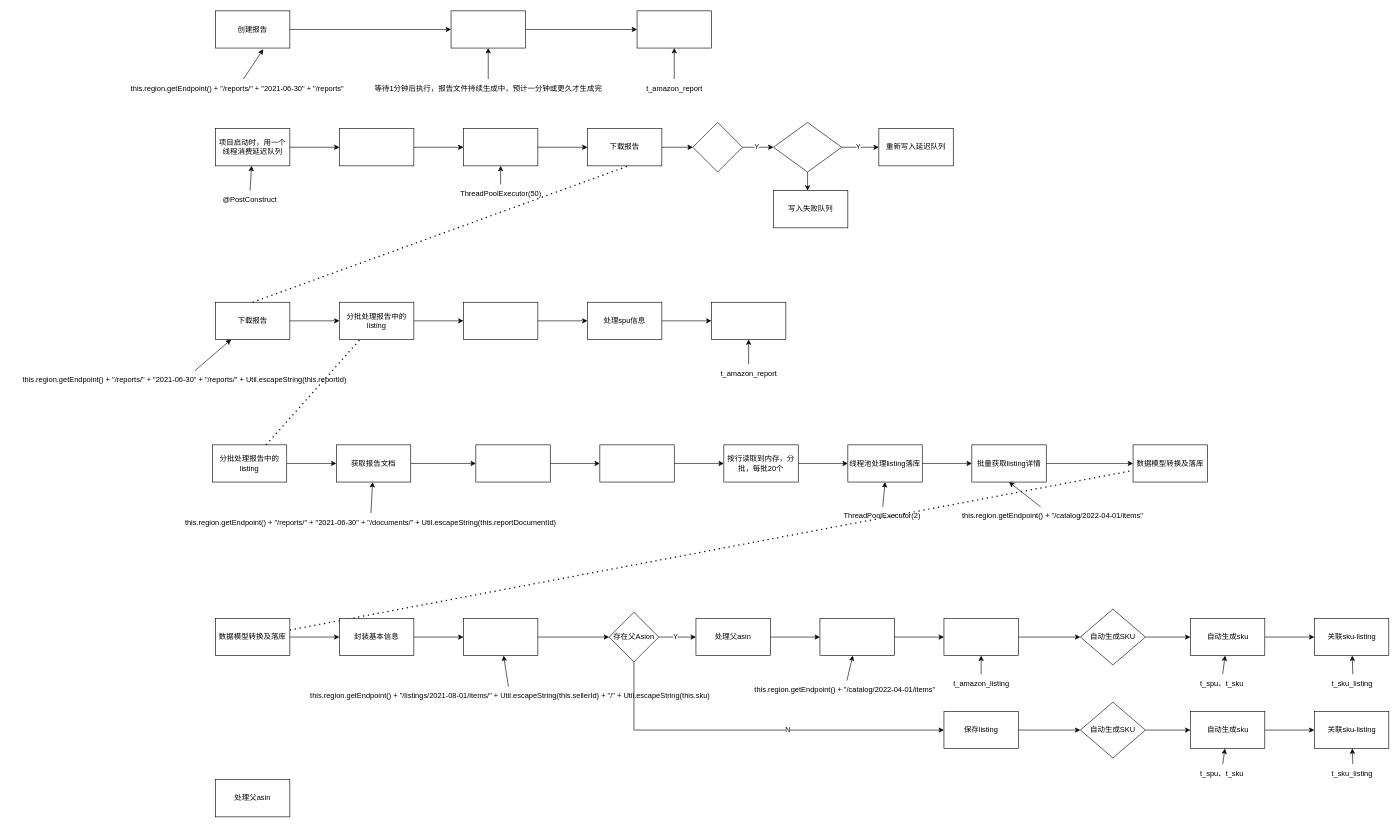
The diagram is 1399 pixels wide and 828 high, and some of its shapes have lost their labels. Here are the shapes that lost their labels. From the top down, the centre of each, then its label:
At point (487, 29): "报告ID写入延迟队列".
At point (673, 29): "报告ID信息数据库留档".
At point (376, 147): "delayQueue.take()".
At point (500, 147): "线程池下载报告".
At point (717, 147): "下载失败".
At point (807, 147): "失败次数 <= 2".
At point (500, 320): "处理库存同步信息".
At point (748, 320): "删除报告表".
At point (512, 463): "流式模式解析大文件".
At point (636, 463): "解析成一个csv表格".
At point (500, 637): "获取存储币种、五点描述等".
At point (856, 637): "获取颜色，名称，品牌,列目等".
At point (980, 637): "保存父asin".
